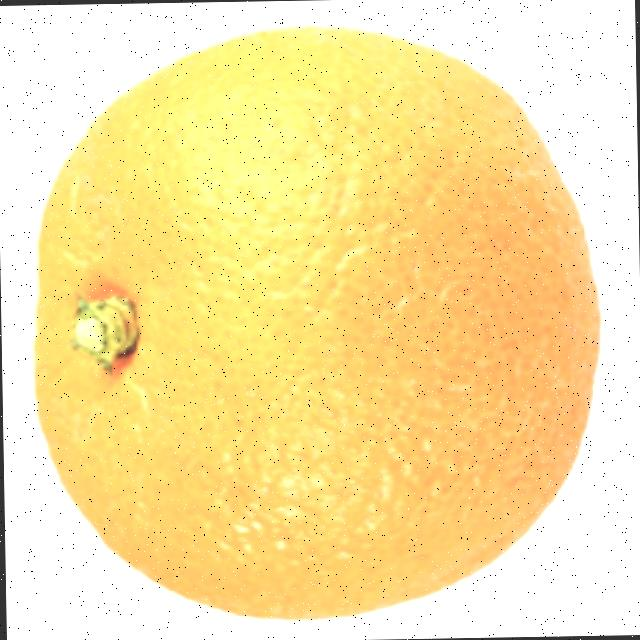orange: (18, 20, 606, 630)
